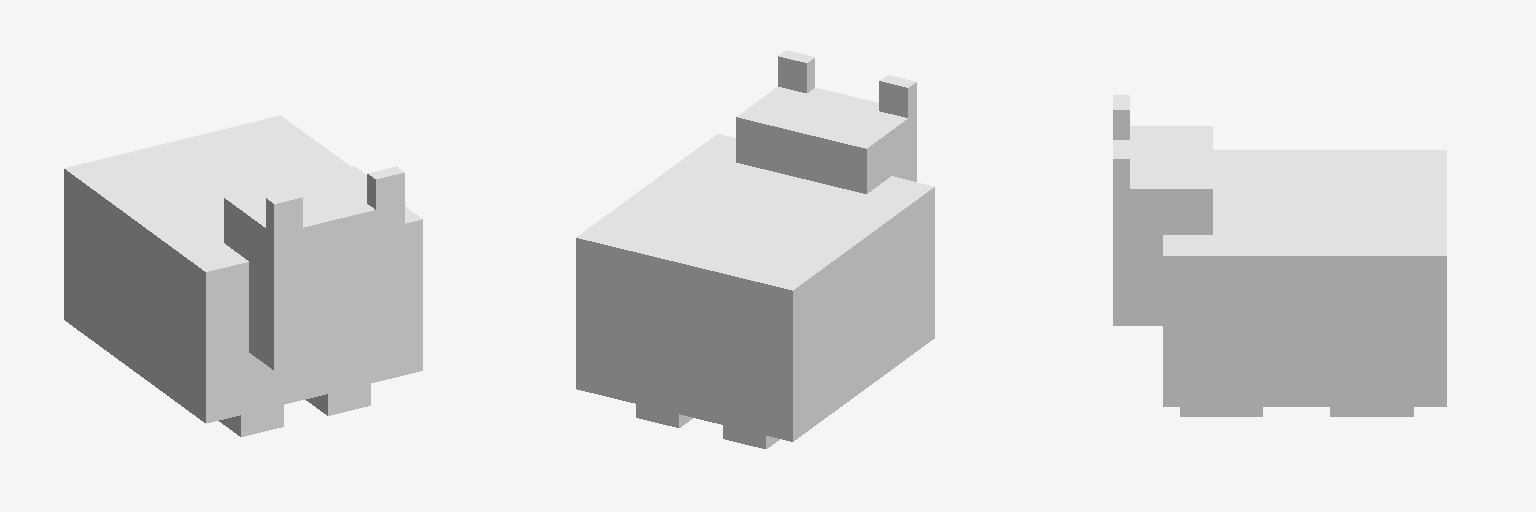
The model's file is Guineapig.obj.
The picture shows the model from 3 angles: view 1: azimuth 30°, elevation 25°; view 2: azimuth 150°, elevation 25°; view 3: azimuth 270°, elevation 25°; orthographic projection.
Visible parts, largest first — view 1: object 1; view 2: object 1; view 3: object 1.
Part boxes in pixels (bbox=[...]): object 1: bbox=[64, 115, 422, 436]; object 1: bbox=[576, 50, 934, 448]; object 1: bbox=[1113, 95, 1446, 416].
Bounding box in the file's own units: 1.5 × 1.7 × 2.